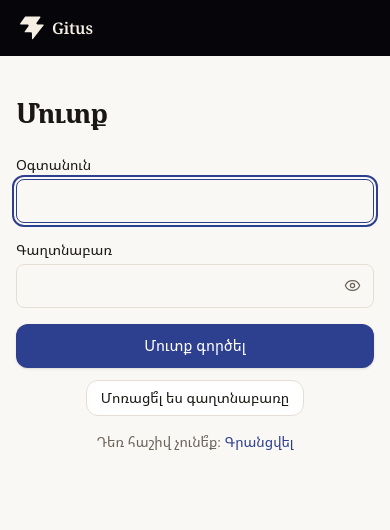
Test: LoginPage — device limit eviction › reports bad credentials without claiming a device was signed out
This screenshot has width=390, height=530.
Type "student1" into the field labelled "Օգտանուն" at (195,201), box [16,179,374,223]
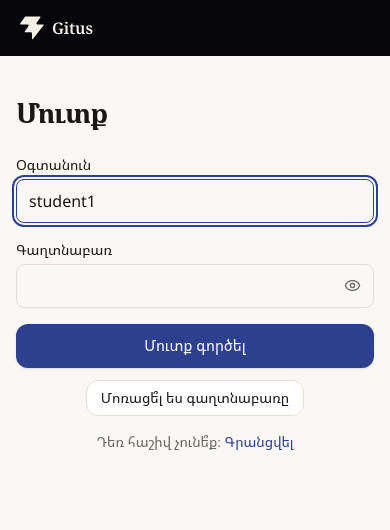
Type "hunter2222" into the password field labelled "Գաղտնաբառ" at (195,286), box [16,264,374,308]
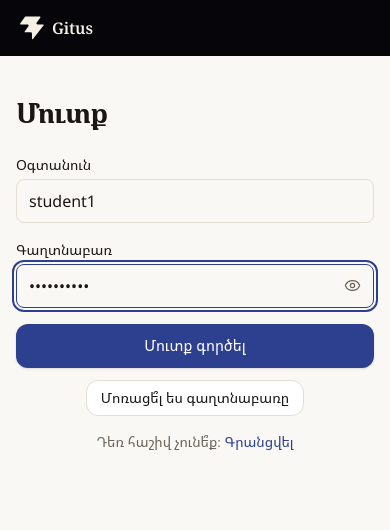
Click the button "Մուտք գործել" at (195,346), box [16,324,374,368]
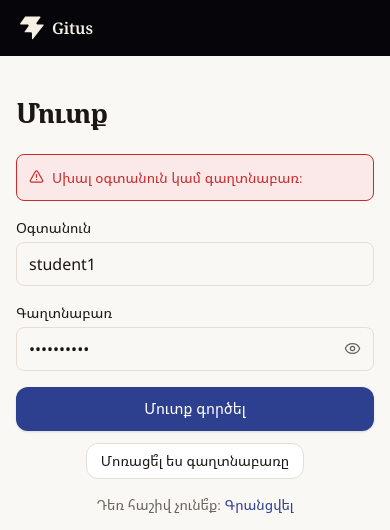
Now the text "Սխալ օգտանուն կամ գաղտնաբառ։" is shown, box [52,167,303,188]
